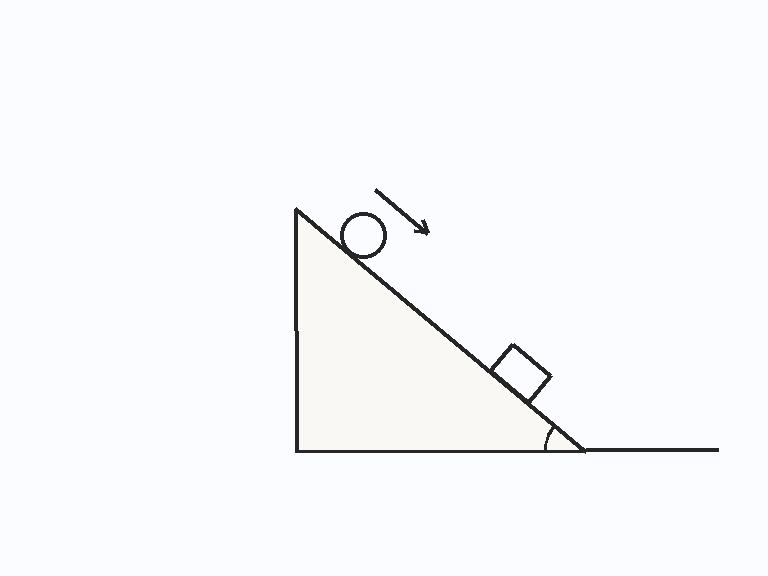ball: (338, 210, 388, 260)
block: (488, 342, 552, 404)
ramp: (293, 206, 587, 453)
